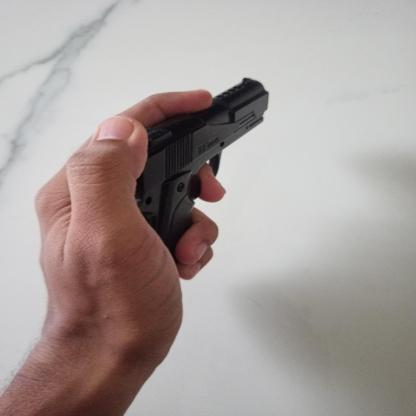handgun: (133, 76, 272, 256)
